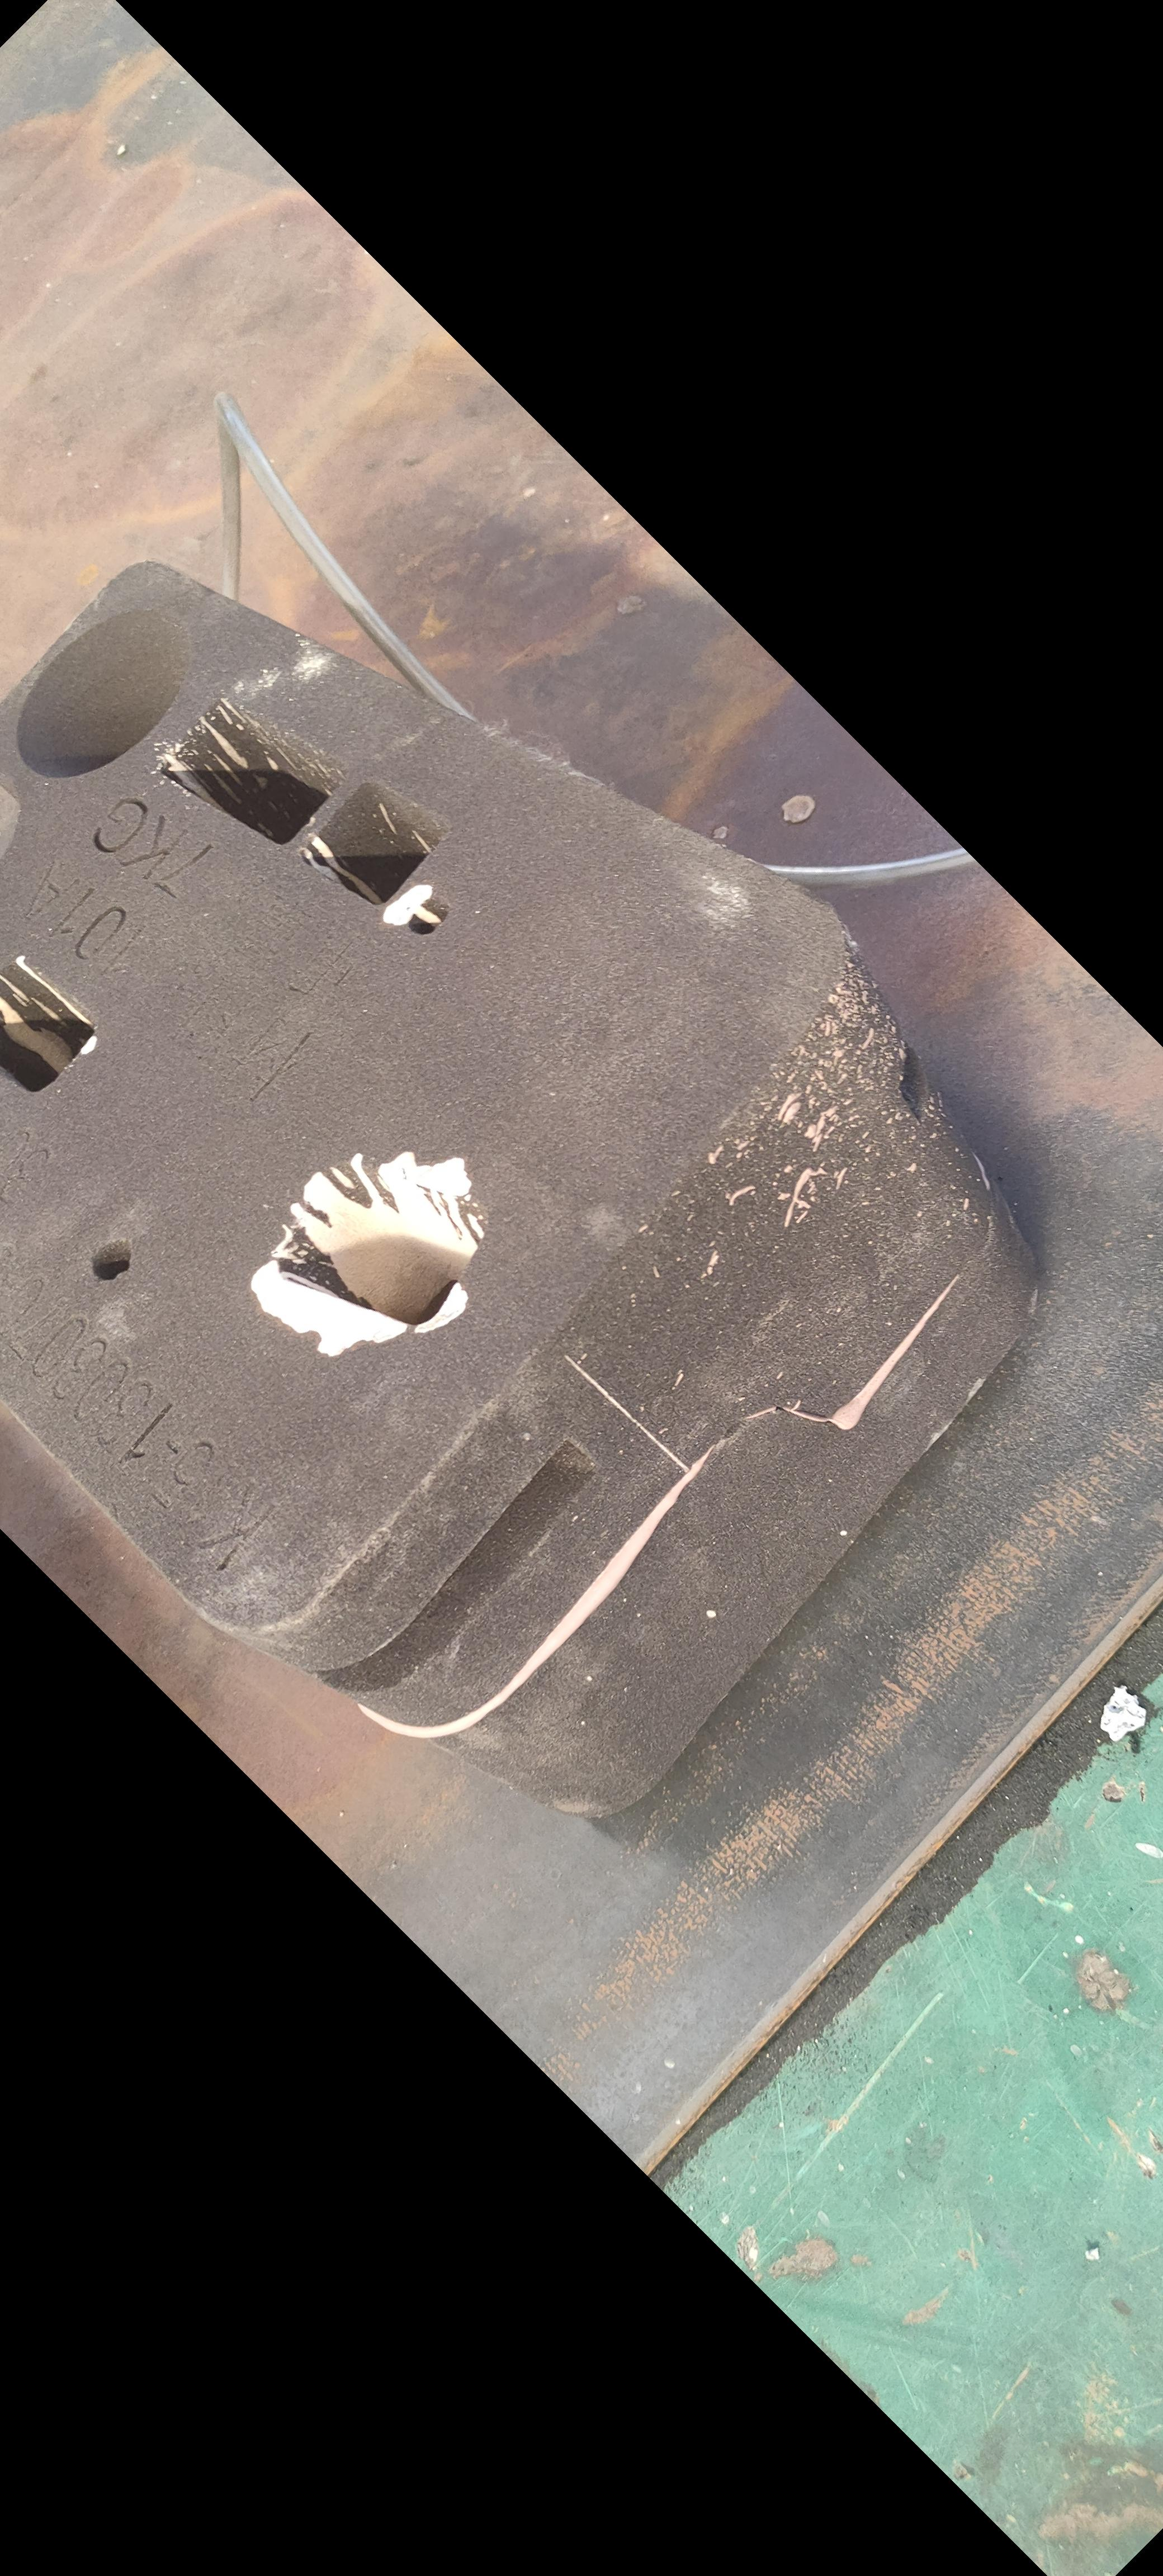pouring hole: (18, 605, 186, 779)
